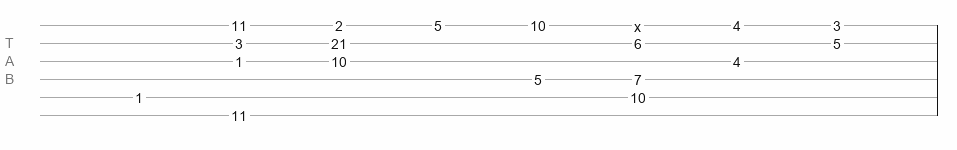1: (135, 90, 143, 100), (235, 54, 243, 64)
10: (331, 54, 347, 64), (530, 18, 546, 28), (630, 90, 646, 100)
11: (231, 18, 247, 28), (231, 108, 247, 118)
2: (335, 18, 343, 28)
21: (331, 36, 347, 46)
3: (235, 36, 243, 46), (833, 18, 841, 28)
4: (733, 18, 741, 28), (733, 54, 741, 64)
5: (434, 18, 442, 28), (534, 72, 542, 82), (833, 36, 841, 46)
6: (634, 36, 642, 46)
7: (634, 72, 642, 82)
x: (634, 19, 641, 27)
